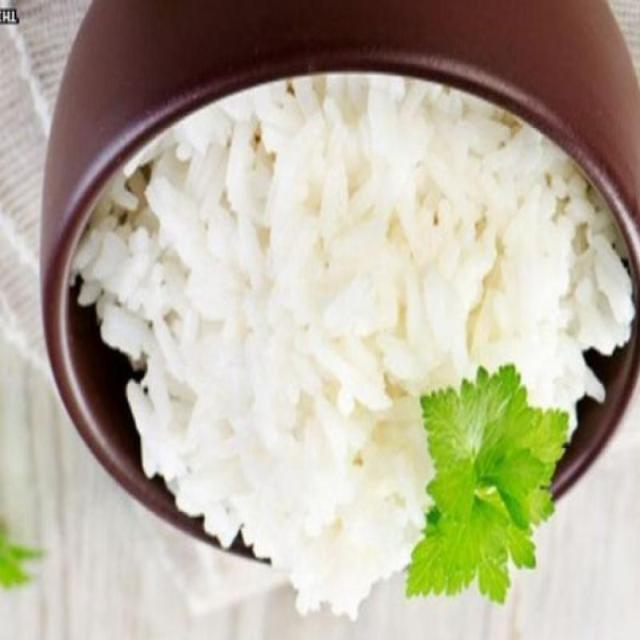nasi_putih: (75, 73, 634, 619)
